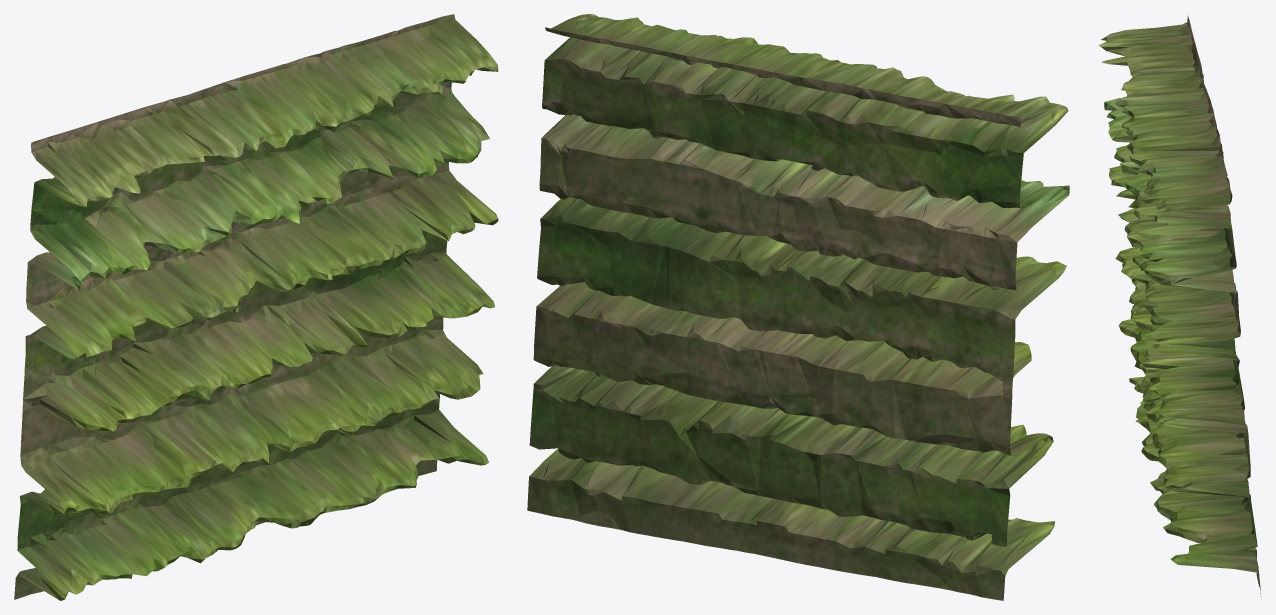
The model's file is map_60_60.obj.
The picture shows the model from 3 angles, left to right: view 1: azimuth 30°, elevation 25°; view 2: azimuth 150°, elevation 25°; view 3: azimuth 270°, elevation 25°; orthographic projection. The views are drawn at different scales.
Visible parts, largest first — view 1: grp1; view 2: grp1; view 3: grp1.
Part boxes in pixels (x1=…): grp1: x1=14, y1=14, x2=498, y2=600; grp1: x1=527, y1=14, x2=1069, y2=600; grp1: x1=1098, y1=15, x2=1261, y2=596.
Bounding box in the file's own units: 10 × 10 × 3.7.
1 material, 1 textured.
